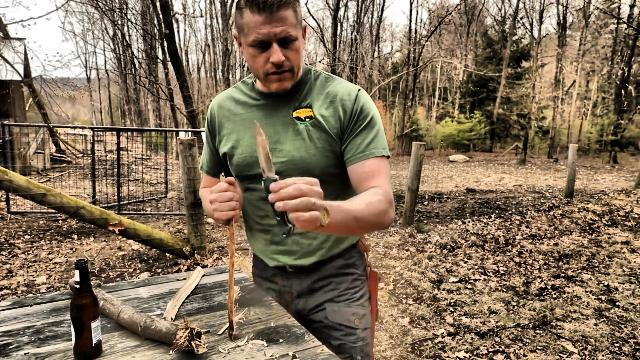knife: (244, 110, 308, 222)
